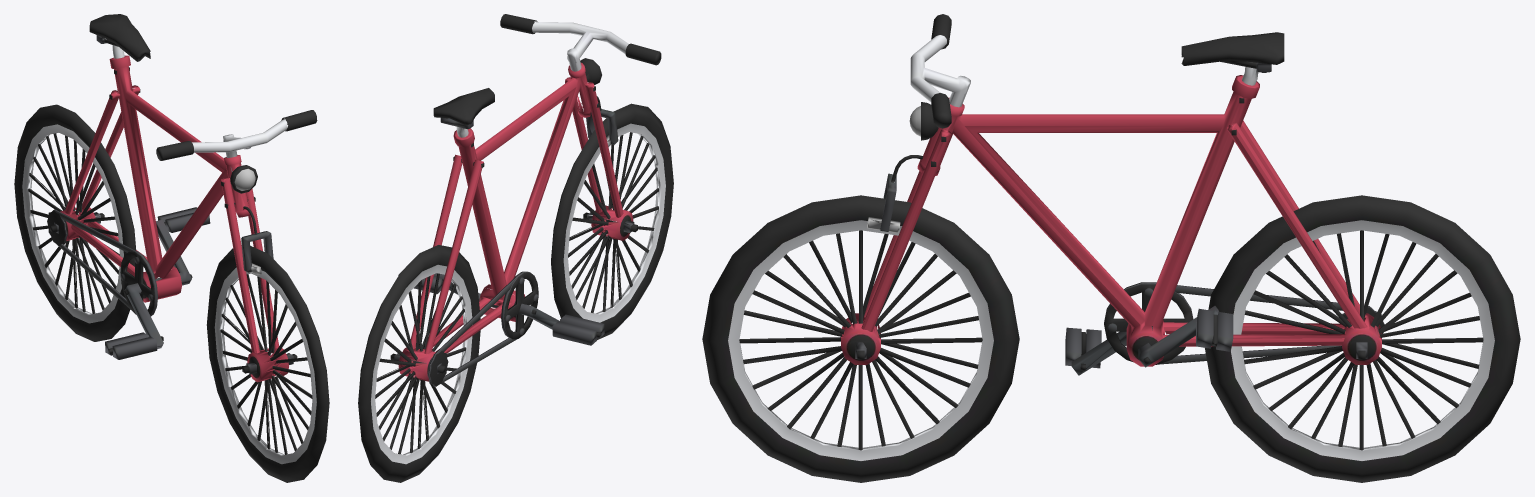
Rendered from edNZoeH3lVP.glb.
3 renders of one model, left to right at view 1: azimuth 30°, elevation 25°; view 2: azimuth 150°, elevation 25°; view 3: azimuth 270°, elevation 25°, orthographic. The views are drawn at different scales.
Parts seen in each view (by area): view 1: Frame; view 2: Frame; view 3: Frame.
Boxes of the visible parts, box(x1,y1,x2,y2) form: Frame: box(14, 14, 329, 482); Frame: box(358, 14, 673, 482); Frame: box(702, 14, 1520, 482).
Size of the model in its own units: 0.4705 by 1 by 1.66.
Materials: 1 (1 with a texture image).
